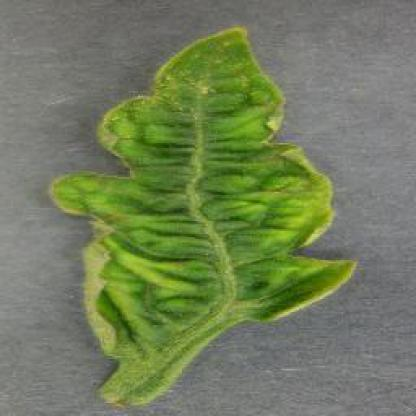good leaf: (84, 18, 316, 414)
